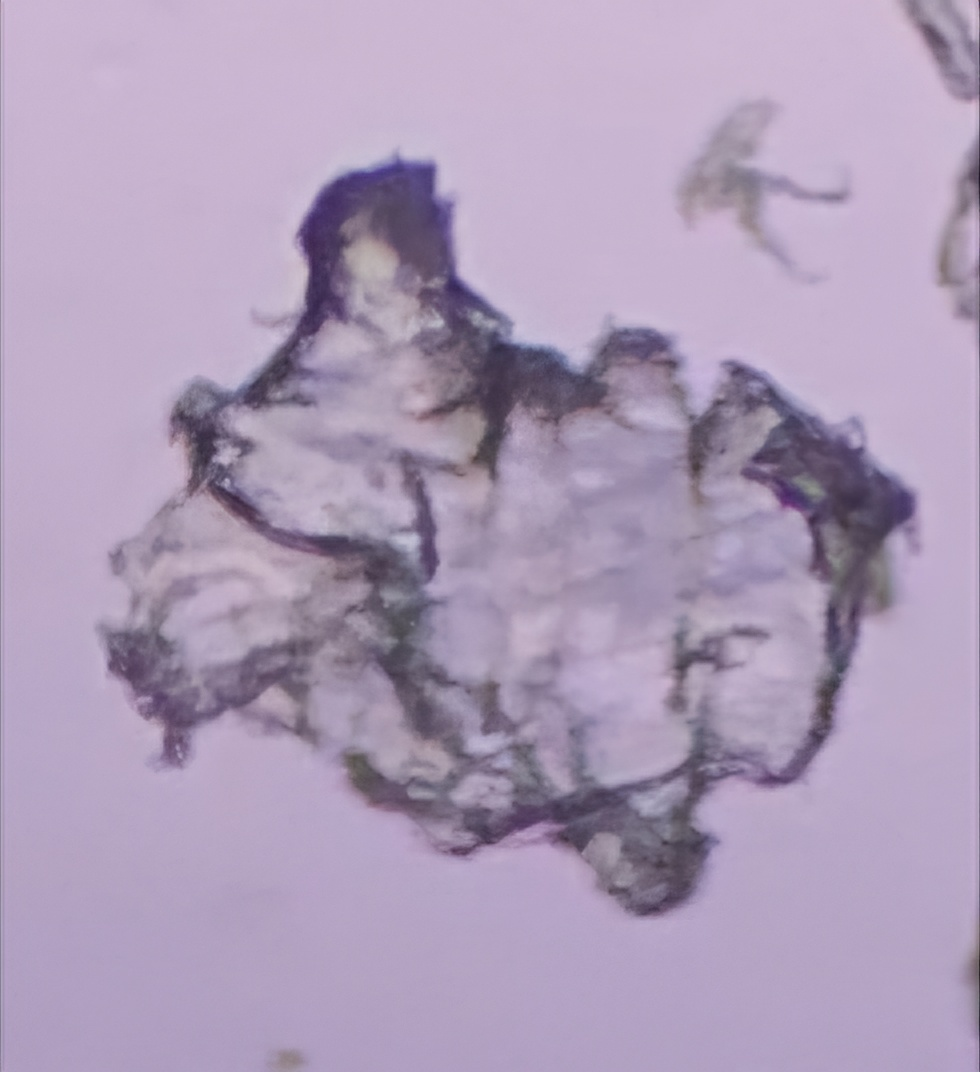microplastic: (89, 154, 933, 946)
